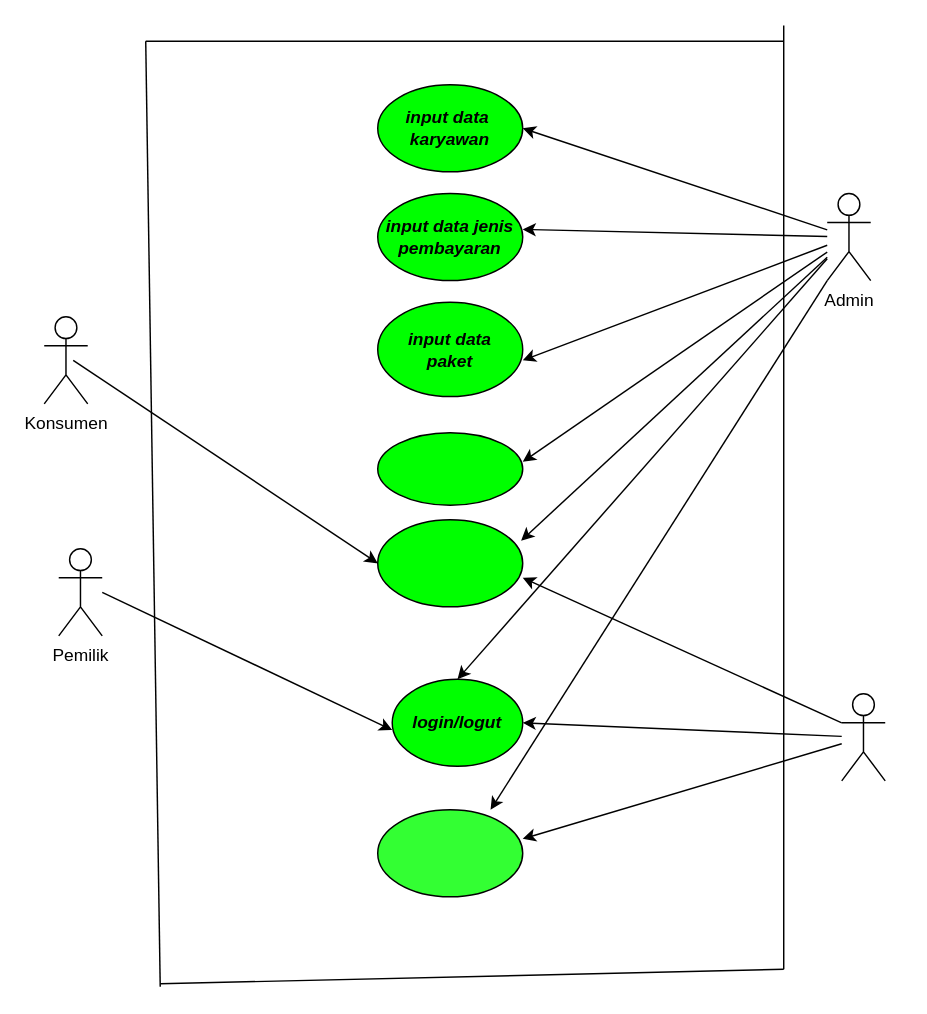
Image size: 927x1014. Some labels were removed from this diagram. Each missing label, with the box of its shape:
buat tranksaksi pemesanan: (376, 808, 523, 897)
input data konsumen: (376, 431, 523, 505)
Karyawan: (840, 692, 885, 781)
lihat history order: (376, 518, 523, 607)
